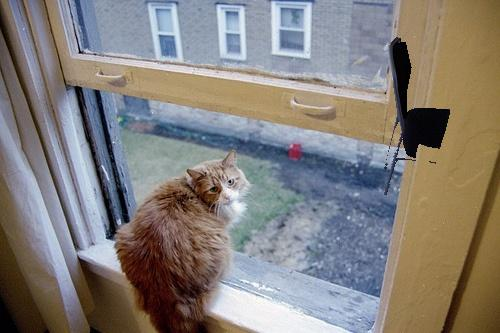tampered: (385, 38, 450, 195)
